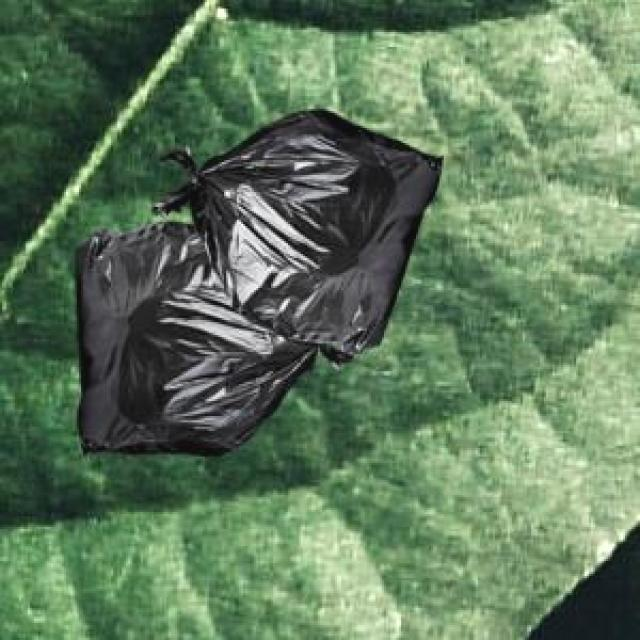Trashbag: (217, 120, 440, 363), (64, 225, 248, 460)
